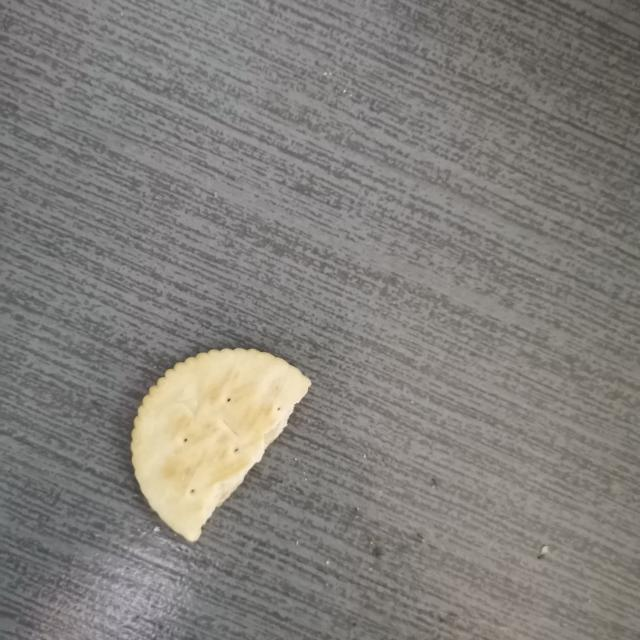Broken: (129, 346, 312, 542)
